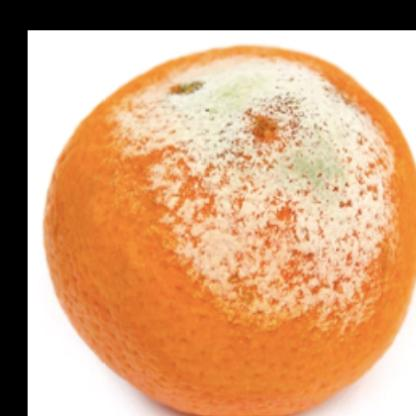rotten: (45, 44, 416, 416)
